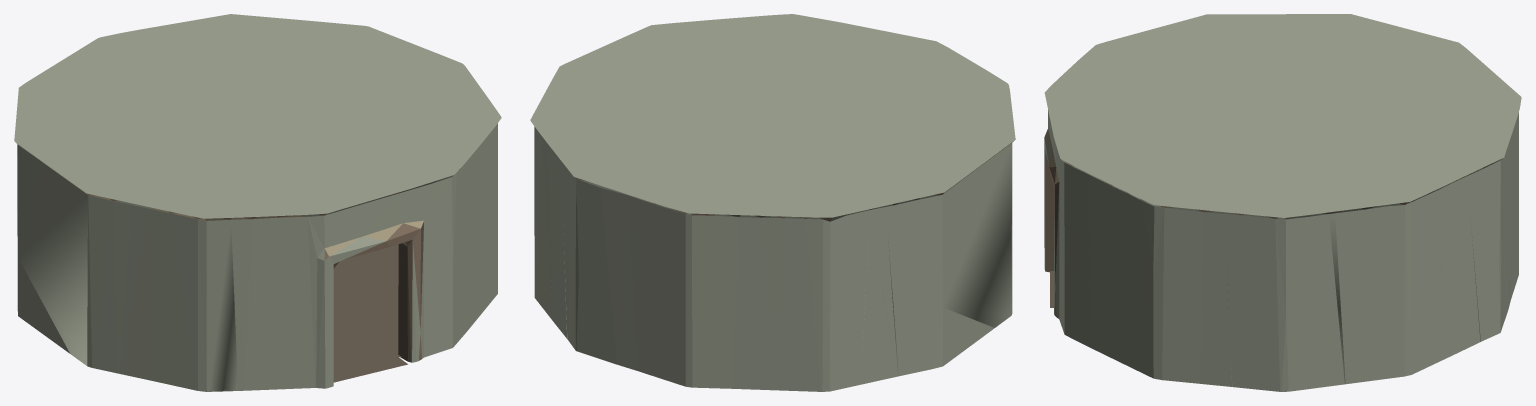
Rendered from etape-1.glb.
3 views of the same model, side by side, from view 1: azimuth 30°, elevation 25°; view 2: azimuth 150°, elevation 25°; view 3: azimuth 270°, elevation 25° (orthographic).
Visible parts, largest first — view 1: geometry_0; view 2: geometry_0; view 3: geometry_0.
Boxes of the visible parts, box(x1,y1,x2,y2) form: geometry_0: box(14, 14, 501, 391); geometry_0: box(530, 14, 1015, 391); geometry_0: box(1044, 14, 1521, 391).
Size of the model in its own units: 0.7923 by 0.3179 by 0.7833.
